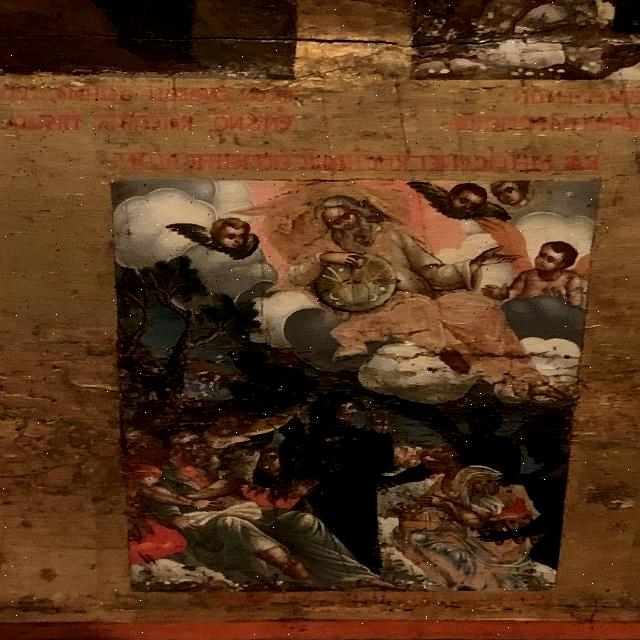angel: (475, 212, 594, 308), (165, 210, 269, 266), (407, 179, 513, 226)
cloud: (361, 344, 475, 401)
father: (253, 186, 513, 374)
orb: (309, 254, 402, 309)
wing: (478, 211, 536, 275), (411, 180, 453, 217), (480, 202, 517, 222)
